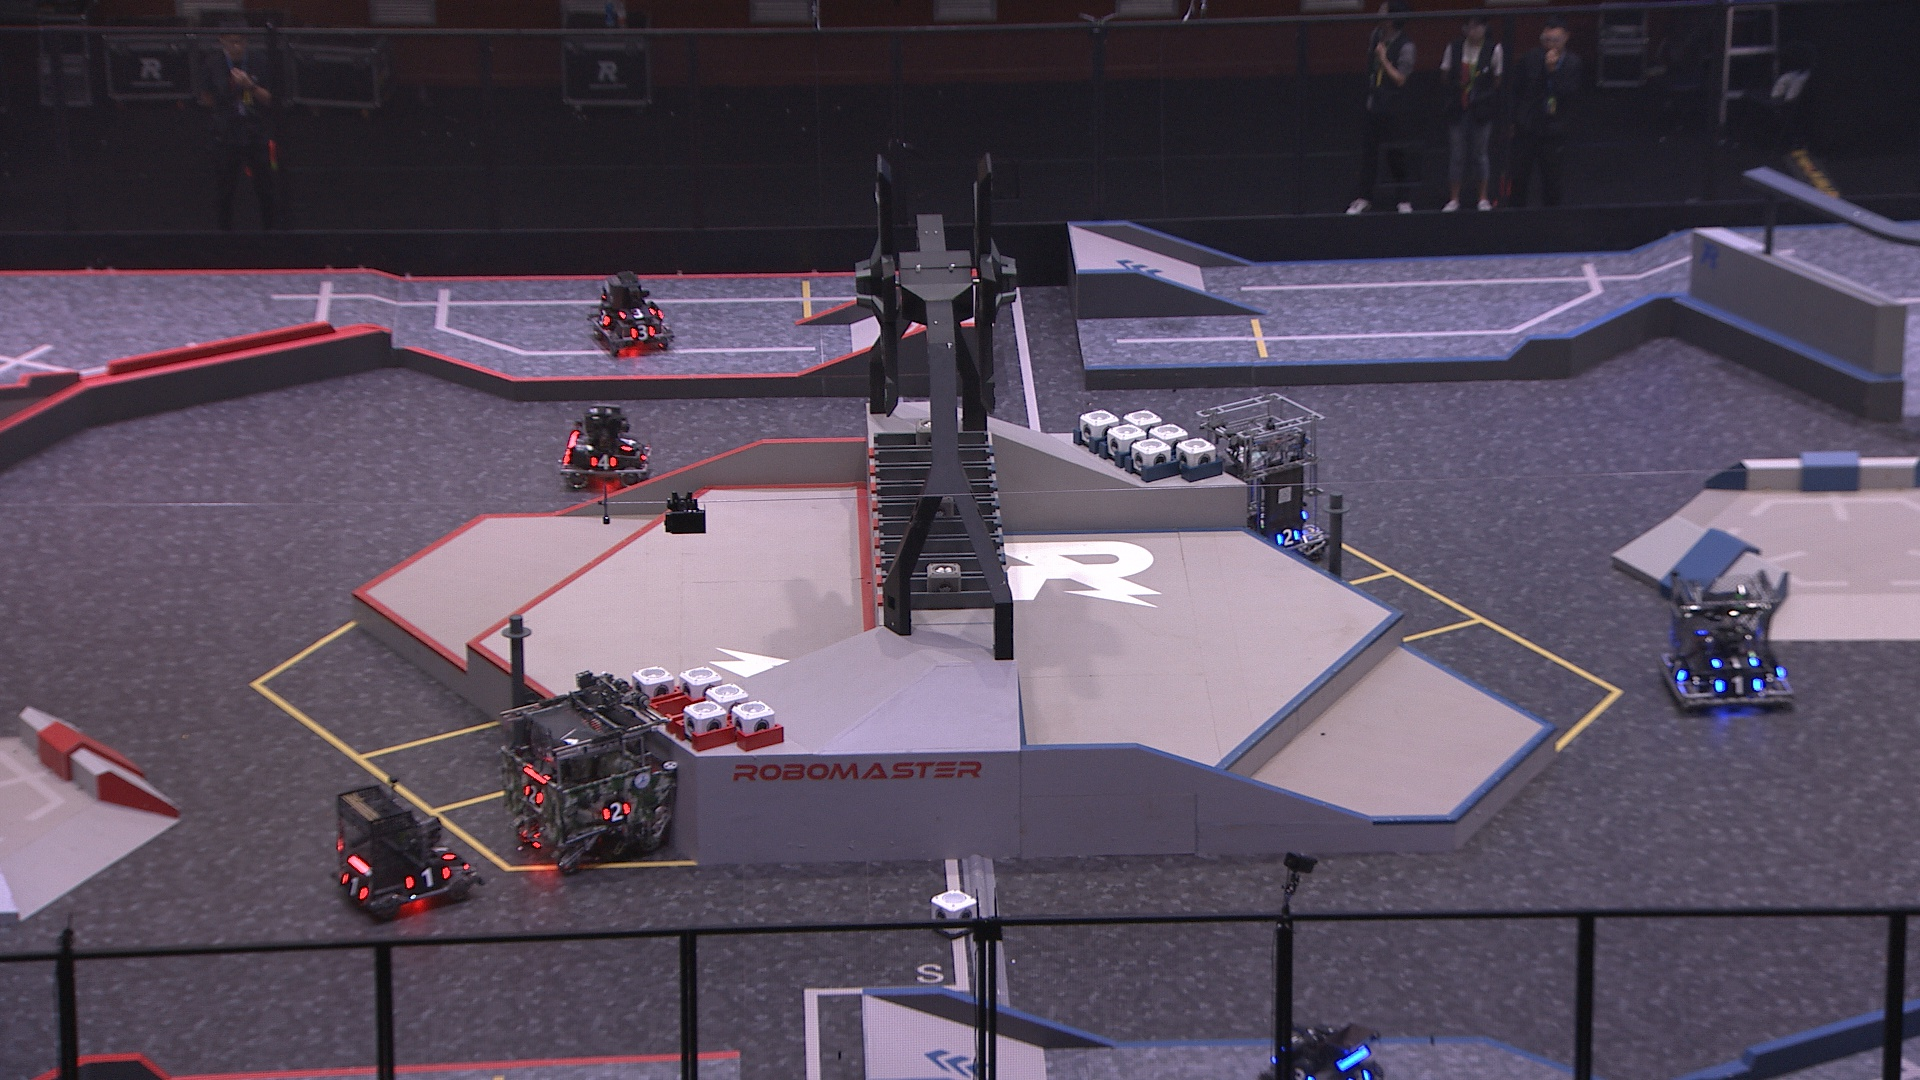armor: (400, 861, 448, 893), (334, 868, 372, 906), (1709, 647, 1760, 673), (1713, 671, 1760, 694), (599, 798, 636, 825), (517, 782, 553, 808), (1665, 655, 1692, 683), (615, 302, 657, 319), (585, 452, 618, 473), (429, 841, 458, 865), (1275, 524, 1302, 549), (628, 322, 655, 342), (1284, 1063, 1316, 1080), (595, 306, 615, 332), (1340, 1065, 1371, 1080), (618, 436, 640, 452)
car: (496, 684, 683, 880), (1188, 389, 1331, 566), (328, 779, 483, 920), (1656, 564, 1797, 716), (1255, 1019, 1396, 1080), (558, 401, 651, 491), (589, 266, 676, 353)
